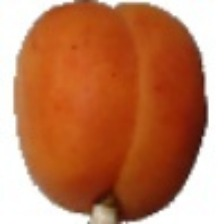apricot: (17, 14, 194, 209)
